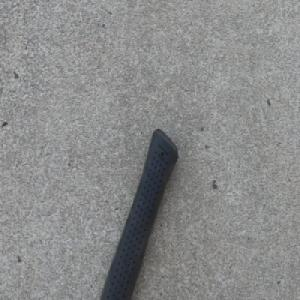Hammer: (96, 125, 179, 300)
